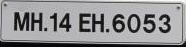character: (13, 10, 30, 32), (126, 13, 141, 33), (78, 12, 92, 33), (58, 12, 72, 32), (142, 13, 156, 33), (30, 11, 43, 32), (91, 12, 104, 33), (111, 13, 125, 32), (158, 13, 171, 33), (49, 12, 58, 32)
